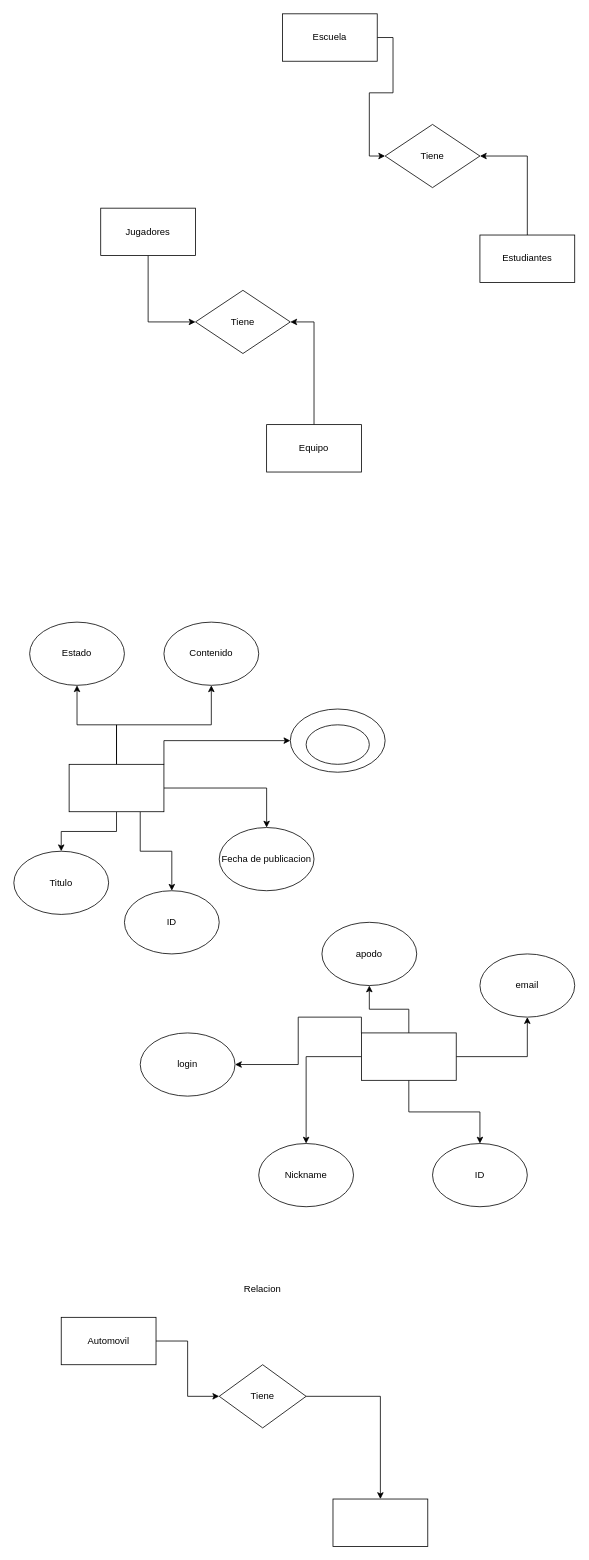
This 589x1560 diagram has some shape labels left out. Here are the shapes that lost their labels. From the top down, the centre of each, then its label:
the point at 337,744: etiquetas
the point at 116,788: Posts
the point at 408,1056: Usuario
the point at 380,1522: Dueño
